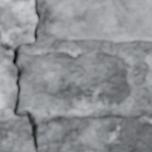brick: (44, 0, 151, 40), (46, 116, 151, 151), (0, 0, 35, 41), (0, 128, 35, 151), (146, 52, 151, 105)
broken_brick: (21, 48, 131, 111), (0, 51, 15, 111)
crack: (0, 0, 40, 150), (2, 148, 23, 151)
